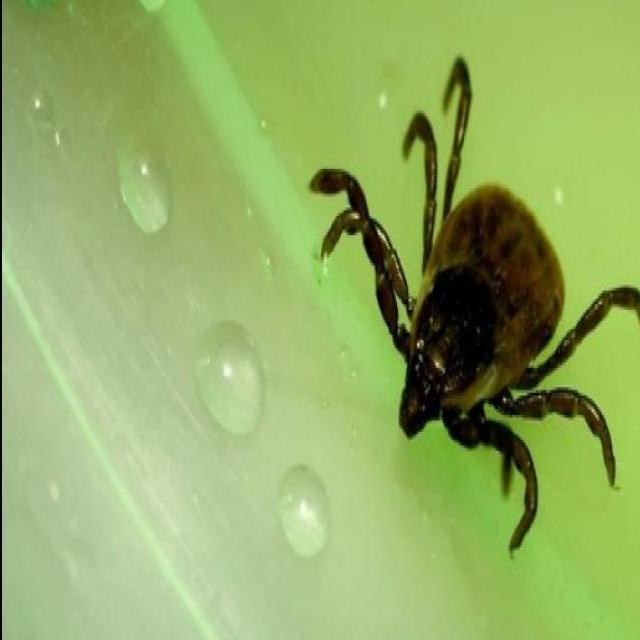Rhipicephalus Sanguineus-F: (305, 58, 640, 553)
